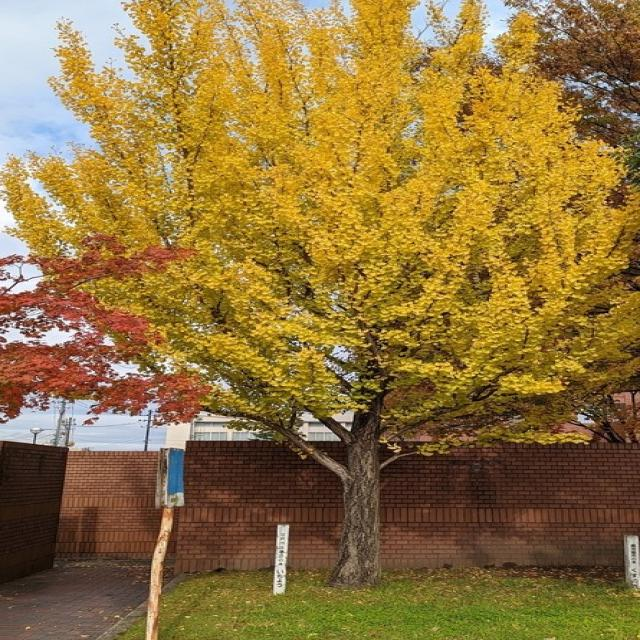ginkgo: (0, 0, 640, 589)
